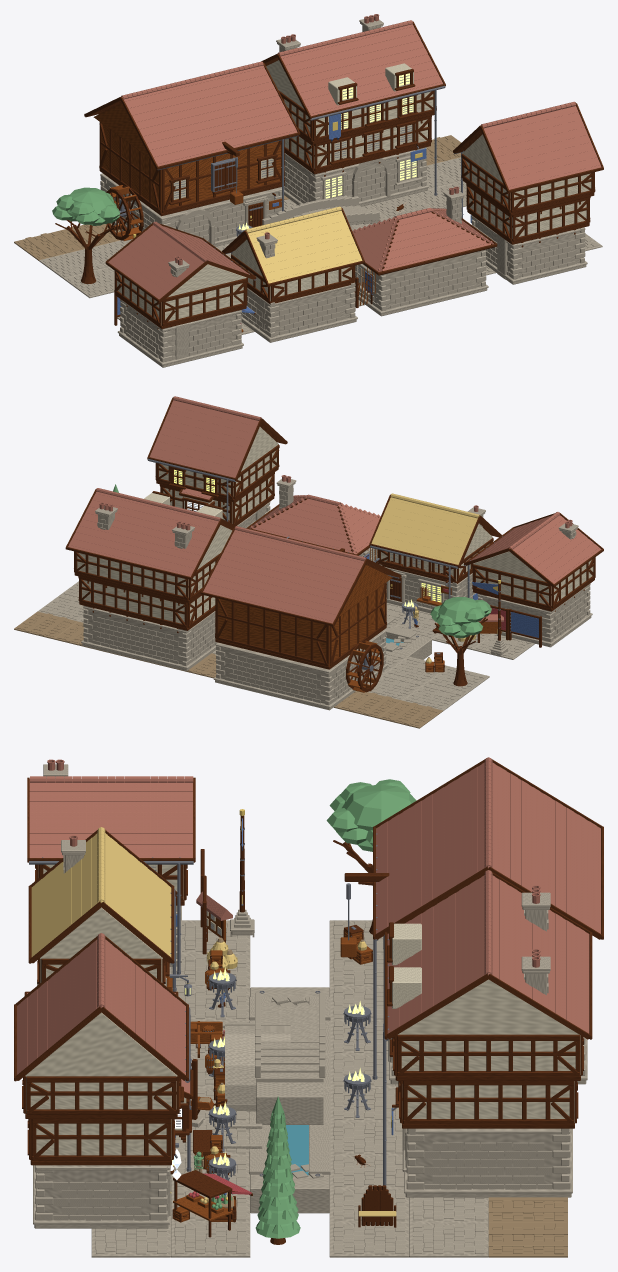
The model's file is fantasy-mmo-city-and-townsfolk-dock-and-craft-row-524a7ab1__32800.glb.
The picture shows the model from 3 angles, top to bottom: view 1: azimuth 30°, elevation 25°; view 2: azimuth 150°, elevation 25°; view 3: azimuth 270°, elevation 25°; orthographic projection. The views are drawn at different scales.
Parts seen in each view (by area): view 1: 056-dock-warehouse/3, 057-travellers-inn/3, 057-travellers-inn/1, 061-alchemist-shop/3, 061-alchemist-shop/1, 056-dock-warehouse/2, 060-cartographer-shop/0, 056-dock-warehouse/1, 060-cartographer-shop/2, 057-travellers-inn/0, 059-fletcher-bowyer-shop/3, 058-tailor-shop/0 (+27 smaller); view 2: 056-dock-warehouse/3, 057-travellers-inn/3, 057-travellers-inn/0, 056-dock-warehouse/2, 056-dock-warehouse/0, 061-alchemist-shop/3, 057-travellers-inn/1, 059-fletcher-bowyer-shop/3, 056-dock-warehouse/1, 060-cartographer-shop/2, 061-alchemist-shop/1, 057-travellers-inn/2 (+30 smaller); view 3: 056-dock-warehouse/3, 057-travellers-inn/3, 057-travellers-inn/2, 057-travellers-inn/1, 057-travellers-inn/0, 061-alchemist-shop/1, 058-tailor-shop/3, 061-alchemist-shop/3, 061-alchemist-shop/2, 062-stone-arch-bridge/0, 059-fletcher-bowyer-shop/3, 061-alchemist-shop/0 (+40 smaller).
Boxes of the visible parts, box(x1,y1,x2,y2) form: 056-dock-warehouse/3: box(121, 61, 297, 166); 057-travellers-inn/3: box(278, 14, 443, 116); 057-travellers-inn/1: box(261, 21, 445, 176); 061-alchemist-shop/3: box(481, 101, 601, 189); 061-alchemist-shop/1: box(453, 102, 603, 247); 056-dock-warehouse/2: box(93, 103, 281, 212); 060-cartographer-shop/0: box(355, 190, 488, 316); 056-dock-warehouse/1: box(84, 62, 300, 216); 060-cartographer-shop/2: box(352, 186, 493, 271); 057-travellers-inn/0: box(276, 19, 429, 206); 059-fletcher-bowyer-shop/3: box(245, 206, 362, 283); 058-tailor-shop/0: box(117, 260, 243, 367); 056-dock-warehouse/3: box(203, 526, 366, 623); 057-travellers-inn/3: box(68, 488, 221, 576); 057-travellers-inn/0: box(81, 506, 217, 671); 056-dock-warehouse/2: box(218, 565, 392, 666); 056-dock-warehouse/0: box(213, 630, 388, 710); 061-alchemist-shop/3: box(149, 396, 261, 499); 057-travellers-inn/1: box(65, 488, 236, 632); 059-fletcher-bowyer-shop/3: box(371, 493, 480, 564); 056-dock-warehouse/1: box(200, 527, 401, 669); 060-cartographer-shop/2: box(249, 475, 380, 554); 061-alchemist-shop/1: box(147, 397, 287, 525); 057-travellers-inn/2: box(77, 493, 232, 623); 056-dock-warehouse/3: box(376, 757, 600, 933); 057-travellers-inn/3: box(387, 870, 589, 1033); 057-travellers-inn/2: box(392, 923, 580, 1122); 057-travellers-inn/1: box(384, 872, 592, 1128); 057-travellers-inn/0: box(402, 892, 572, 1197); 061-alchemist-shop/1: box(14, 936, 193, 1174); 058-tailor-shop/3: box(29, 759, 193, 857); 061-alchemist-shop/3: box(17, 933, 190, 1093); 061-alchemist-shop/2: box(25, 1012, 186, 1159); 062-stone-arch-bridge/0: box(225, 992, 325, 1124); 059-fletcher-bowyer-shop/3: box(31, 827, 171, 957); 061-alchemist-shop/0: box(33, 1165, 171, 1228).
Bounding box in the file's own units: 42.46 × 14.42 × 29.72.
16 materials, 7 textured.
